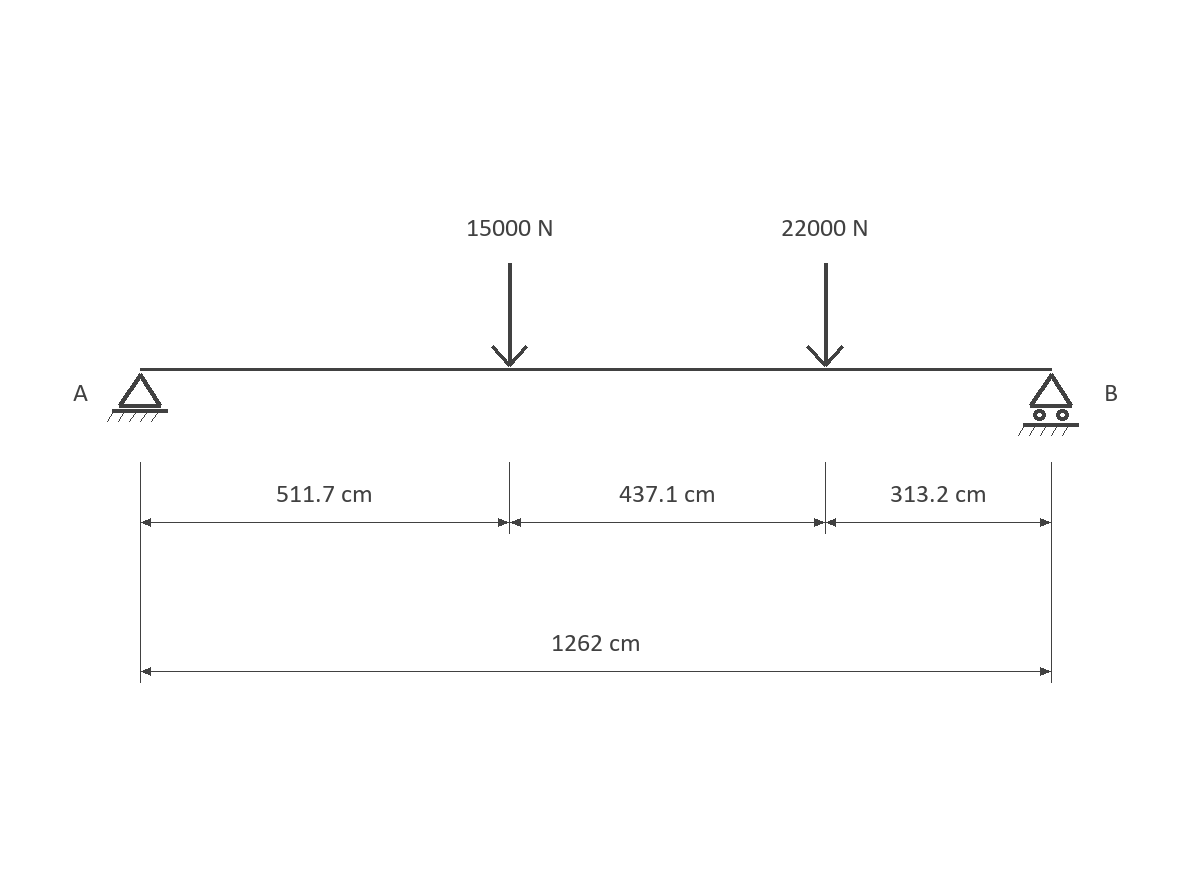pin_support: (107, 373, 168, 422)
point_load: (806, 263, 844, 367), (491, 263, 528, 367)
roller_support: (1018, 373, 1079, 436)
